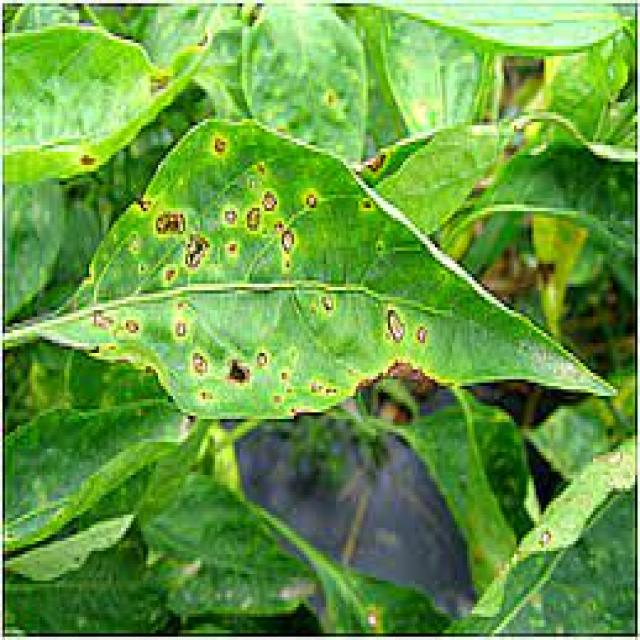bercak_daun: (66, 111, 626, 418)
